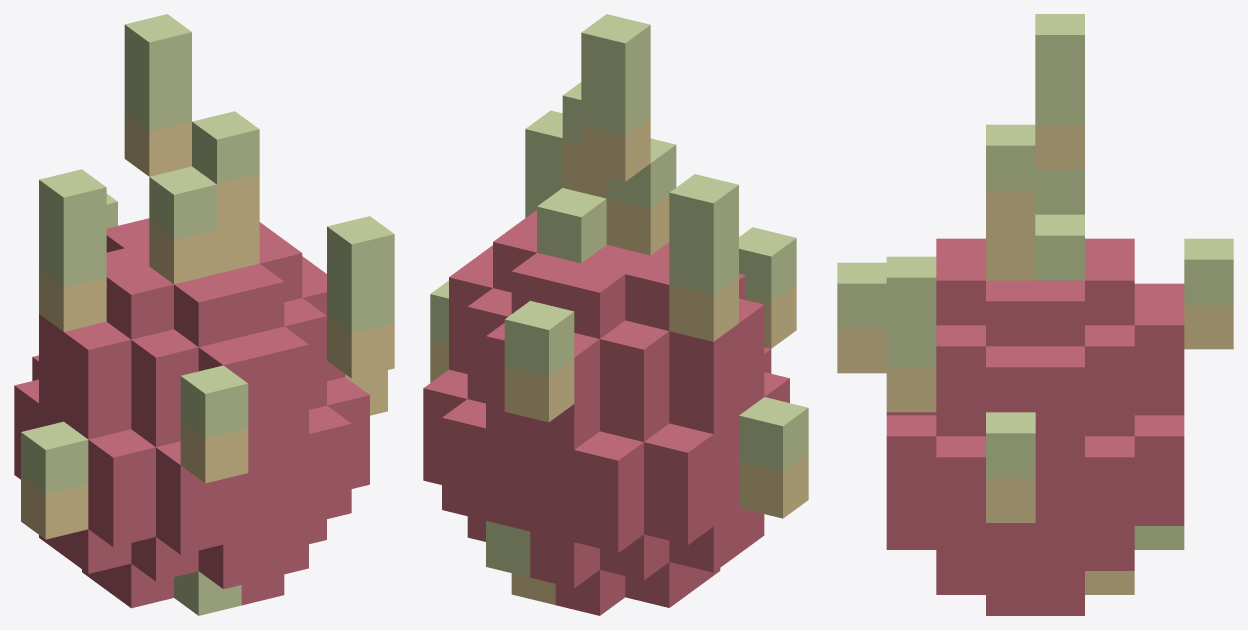
File: Fruta Dragon.fbx
3 renders of one model, left to right at view 1: azimuth 30°, elevation 25°; view 2: azimuth 150°, elevation 25°; view 3: azimuth 270°, elevation 25°, orthographic. The views are drawn at different scales.
Parts seen in each view (by area): view 1: fruta_dragon_8x12x8; view 2: fruta_dragon_8x12x8; view 3: fruta_dragon_8x12x8.
Part boxes in pixels (box(x1,y1,x2,y2)): fruta_dragon_8x12x8: box(14, 14, 394, 615); fruta_dragon_8x12x8: box(423, 14, 808, 615); fruta_dragon_8x12x8: box(837, 14, 1233, 615).
Bounding box in the file's own units: 727 × 1091 × 727.
